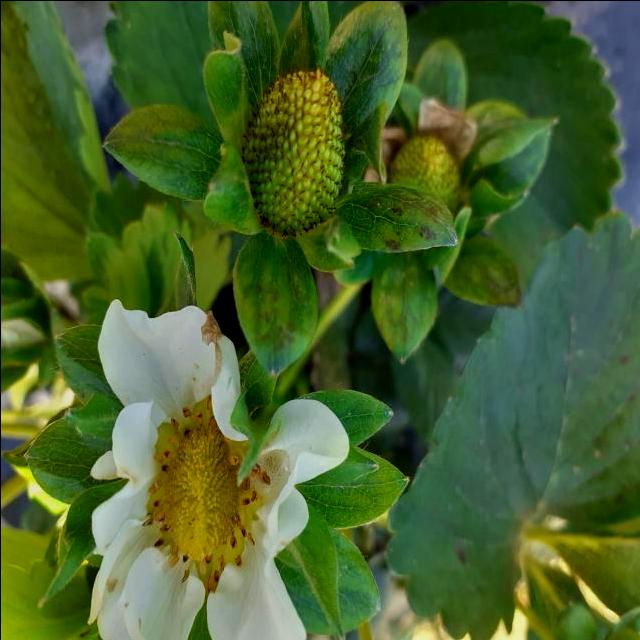flower: (74, 294, 341, 640)
